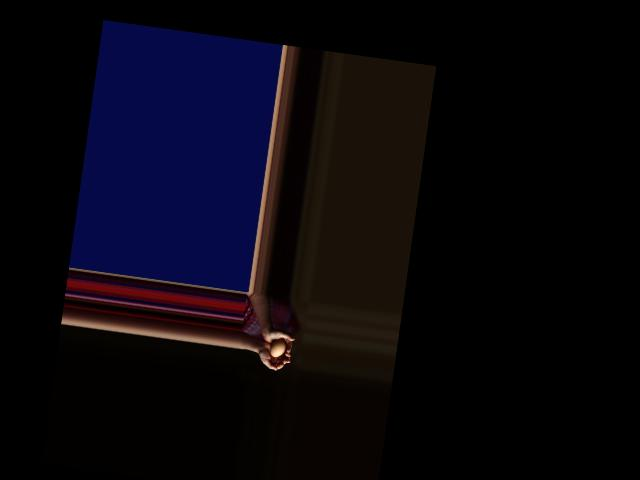egg: (269, 337, 287, 358)
